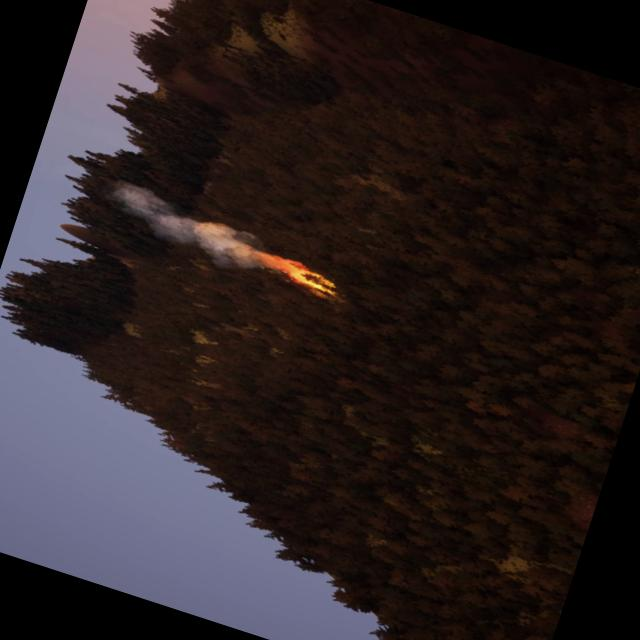fire: (256, 248, 344, 302)
smoke: (101, 178, 278, 279)
